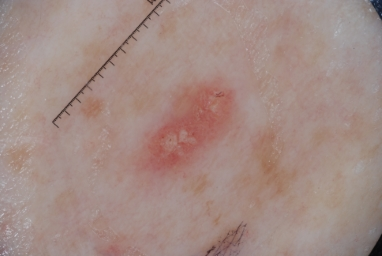seborrheic keratosis: (122, 70, 250, 192)
